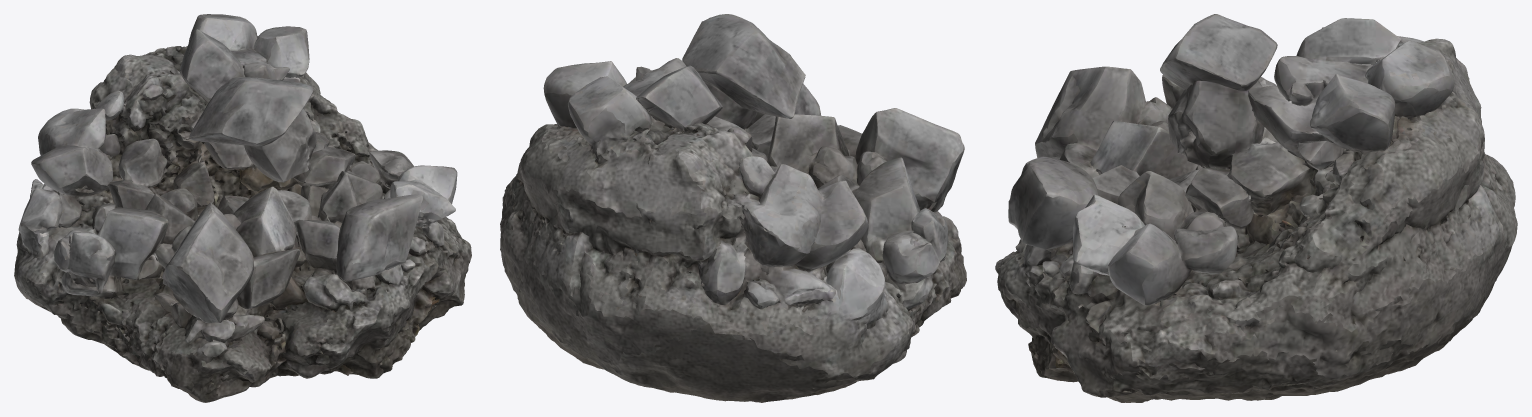
The model's file is cand-4916788.glb.
3 renders of one model, left to right at view 1: azimuth 30°, elevation 25°; view 2: azimuth 150°, elevation 25°; view 3: azimuth 270°, elevation 25°, orthographic. The views are drawn at different scales.
Visible parts, largest first — view 1: world; view 2: world; view 3: world.
Part boxes in pixels (box(x1,y1,x2,y2)): world: box(14, 14, 471, 402); world: box(500, 14, 966, 402); world: box(995, 14, 1517, 402).
Size of the model in its own units: 0.12 by 0.0834 by 0.1189.
1 material, 1 textured.
